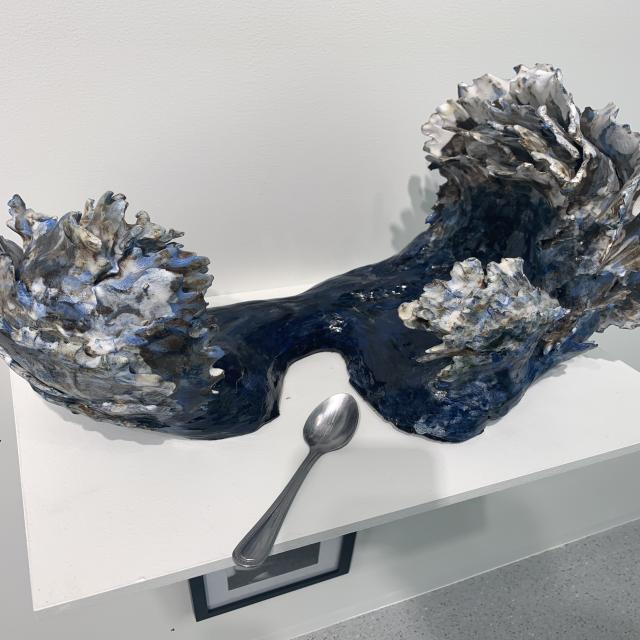Spoon: (216, 383, 366, 570)
